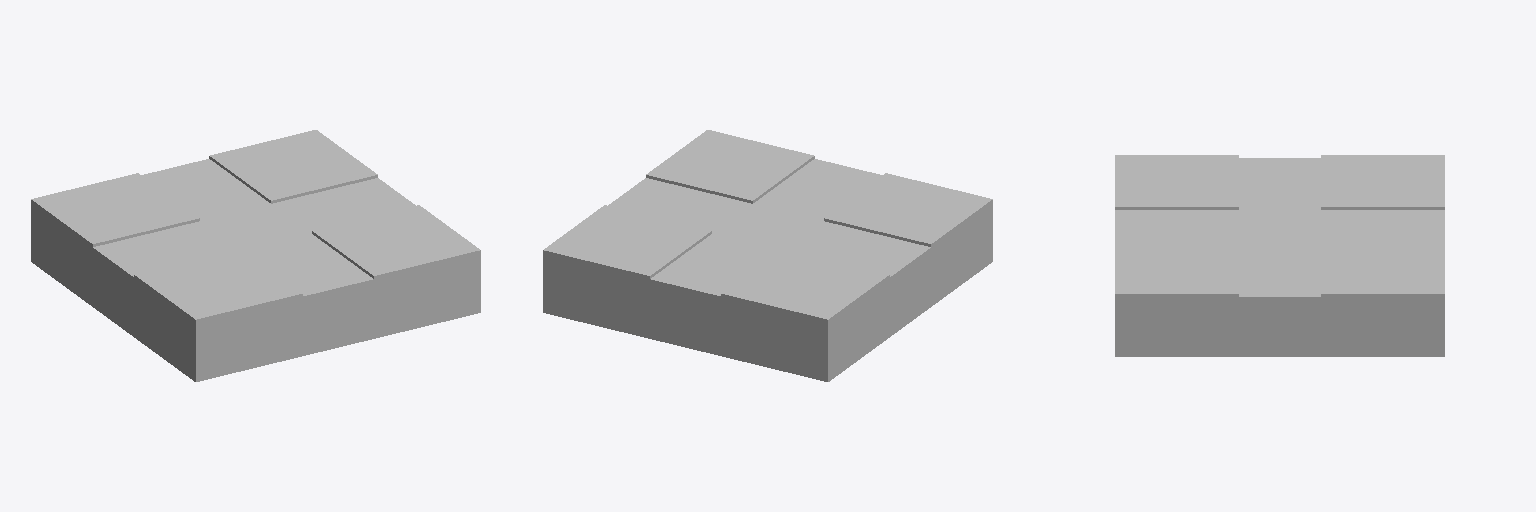
Rendered from tile070.obj.
3 views of the same model, side by side, from view 1: azimuth 30°, elevation 25°; view 2: azimuth 150°, elevation 25°; view 3: azimuth 270°, elevation 25° (orthographic).
Visible parts, largest first — view 1: tile070; view 2: tile070; view 3: tile070.
Boxes of the visible parts, box(x1,y1,x2,y2) form: tile070: box(31, 130, 480, 381); tile070: box(543, 130, 992, 381); tile070: box(1115, 155, 1444, 356).
Bounding box in the file's own units: 1 × 0.21 × 1.